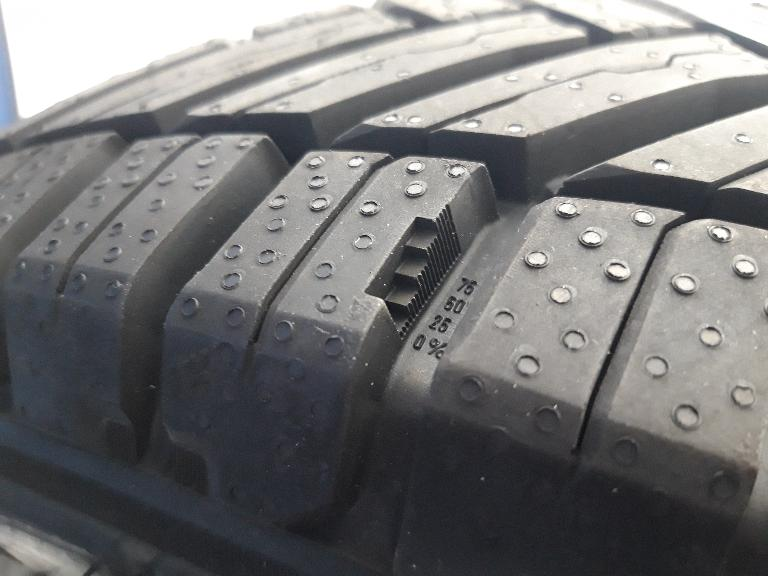temoin:100: (358, 197, 471, 349)
